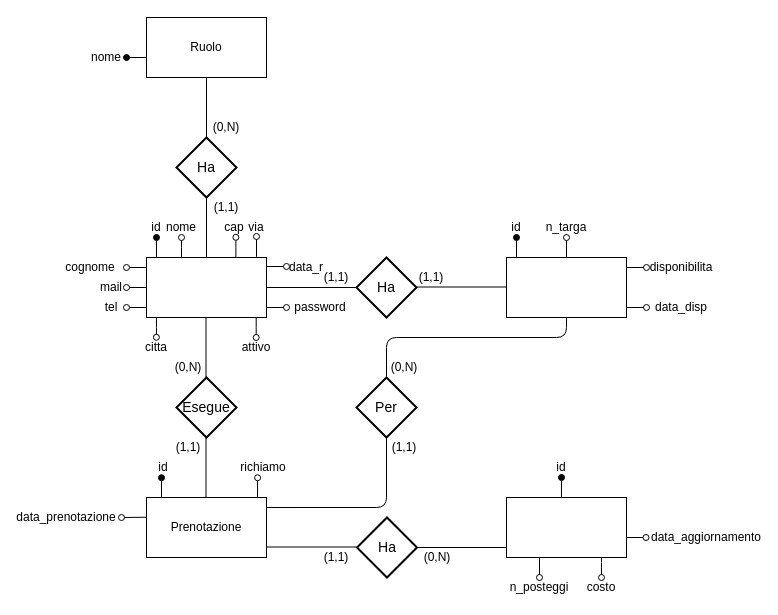
This 778x615 diagram has some shape labels left out. The box of each missing label's shape, as (x1, y1, x2, y2) in pixels:
Parametri: (506, 496, 626, 558)
Posteggio: (506, 256, 626, 318)
Utente: (146, 256, 266, 318)
